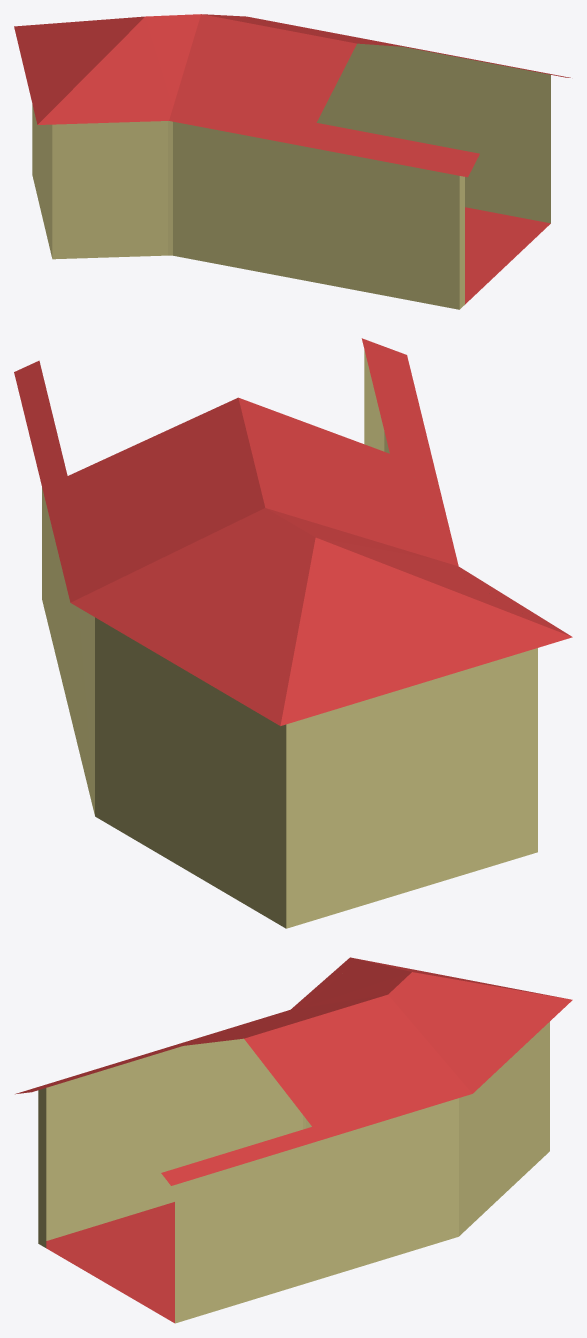
3 views of the same model, one above another, from view 1: azimuth 30°, elevation 25°; view 2: azimuth 150°, elevation 25°; view 3: azimuth 270°, elevation 25° (orthographic). The views are drawn at different scales.
Size of the model in its own units: 23.44 by 24.21 by 9.71.
